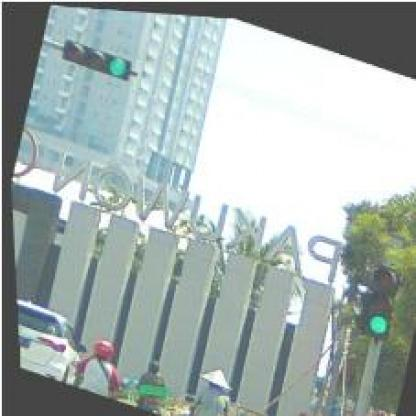green: (354, 256, 401, 338), (57, 36, 130, 78)
